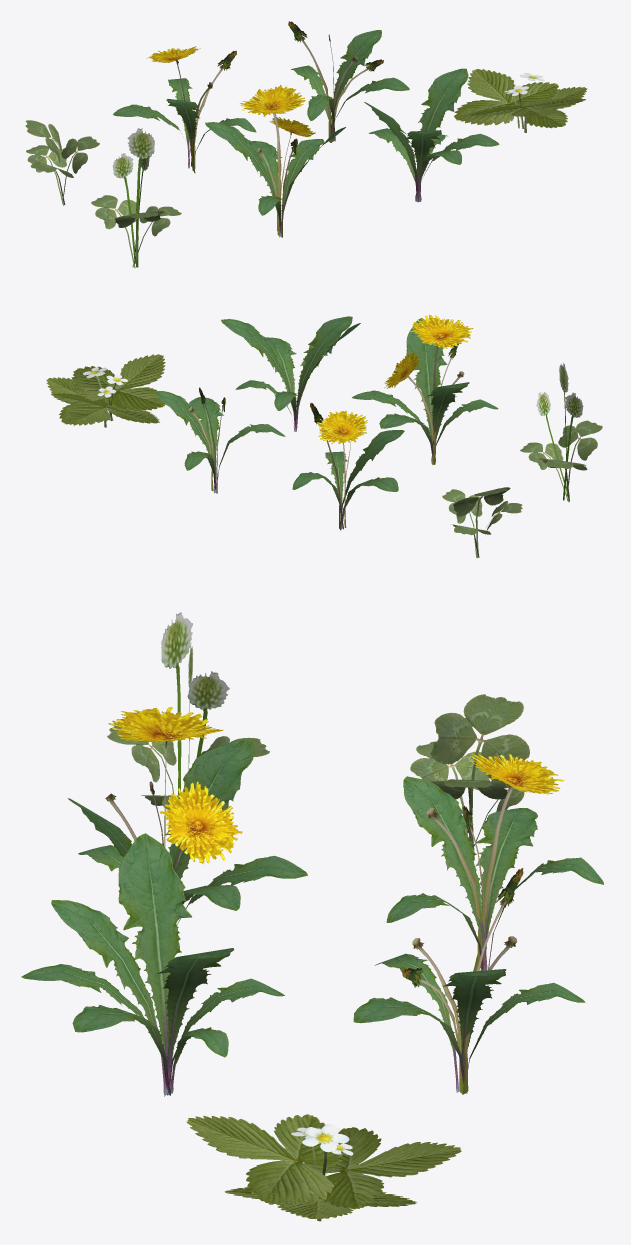
The model's file is dandelion_clover_strawberry.glb.
3 renders of one model, top to bottom at view 1: azimuth 30°, elevation 25°; view 2: azimuth 150°, elevation 25°; view 3: azimuth 270°, elevation 25°, orthographic. The views are drawn at different scales.
Visible parts, largest first — view 1: Dandelion_Clover_strawberry; view 2: Dandelion_Clover_strawberry; view 3: Dandelion_Clover_strawberry.
Part boxes in pixels (left/top/right/bottom): Dandelion_Clover_strawberry: left=25, top=21, right=587, bottom=268; Dandelion_Clover_strawberry: left=46, top=314, right=602, bottom=558; Dandelion_Clover_strawberry: left=21, top=612, right=603, bottom=1221.
Bounding box in the file's own units: 598 × 157 × 333.
Materials: 1 (1 with a texture image).
